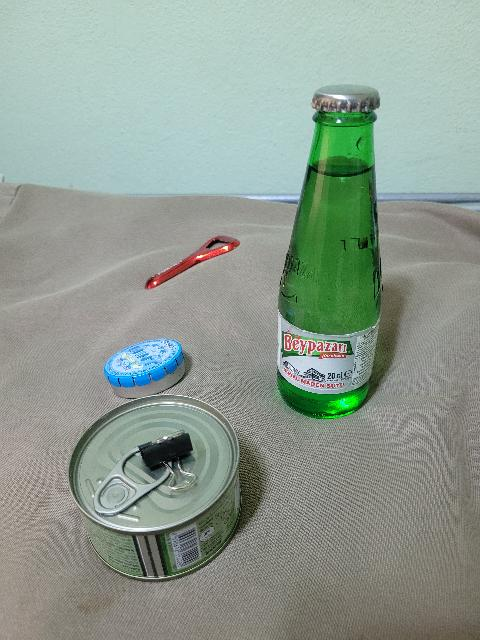Cam: (272, 80, 399, 416)
Metal: (67, 393, 244, 591), (144, 234, 241, 293), (105, 339, 189, 397), (312, 82, 381, 114)
